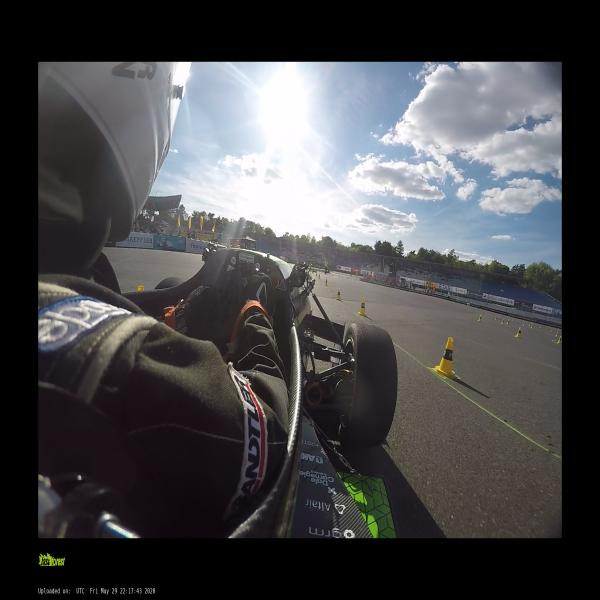yellow_cone: (434, 338, 458, 378), (358, 297, 366, 317), (514, 327, 522, 338), (335, 288, 341, 301), (557, 335, 562, 344), (324, 278, 328, 286), (478, 315, 482, 322), (506, 319, 510, 324), (501, 319, 504, 324), (481, 311, 484, 316), (315, 272, 318, 276), (318, 274, 320, 279), (523, 321, 525, 326), (556, 332, 558, 336), (550, 328, 552, 332), (495, 316, 497, 319), (512, 318, 514, 321), (540, 326, 542, 329)
